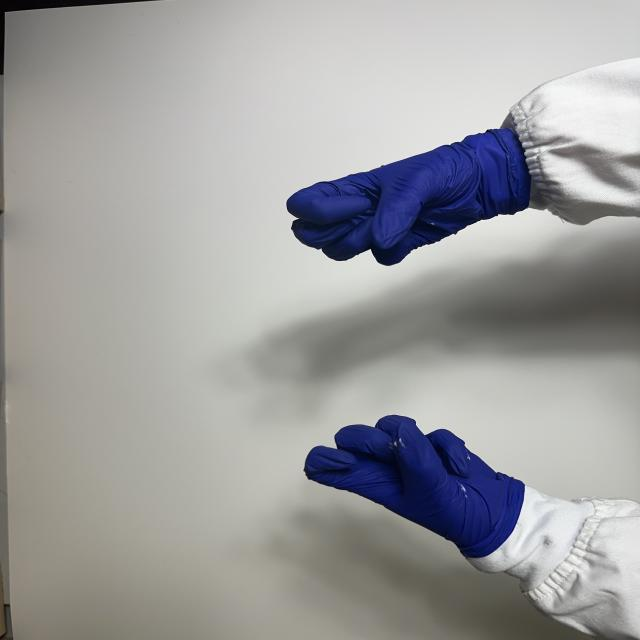gloves_contaminated: (287, 129, 530, 265), (305, 416, 525, 558)
